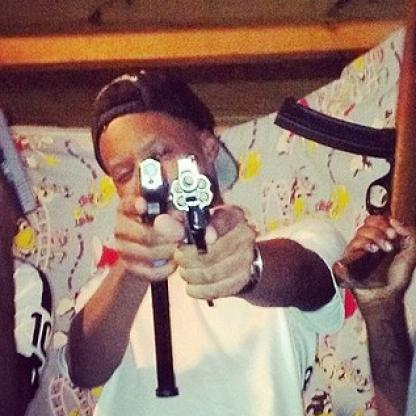gun: (170, 152, 224, 311), (131, 155, 177, 296), (0, 106, 34, 261)
